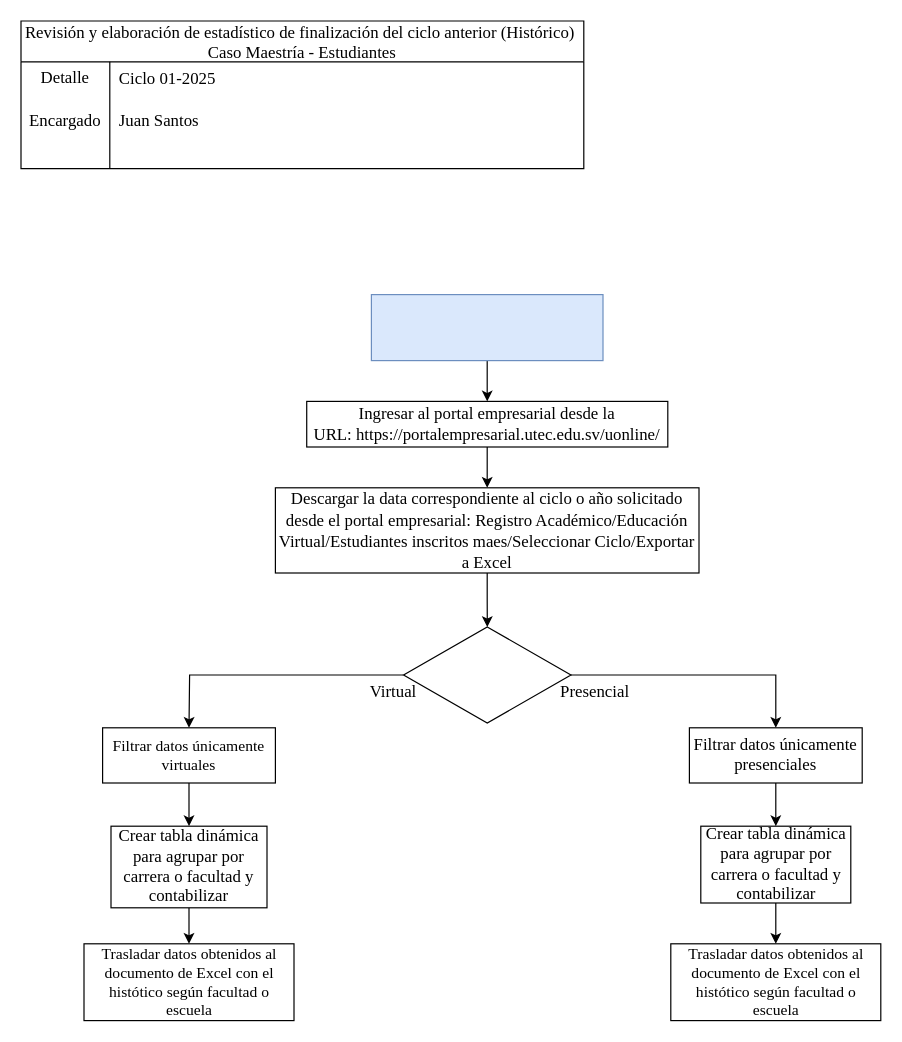
This 902x1042 diagram has some shape labels left out. Each missing label, with the centre of its shape:
"Revisión y elaboración de estadístico de finalización del ciclo anterior" belongs at point (486, 327).
"¿Presencial o virtual?" belongs at point (486, 674).
